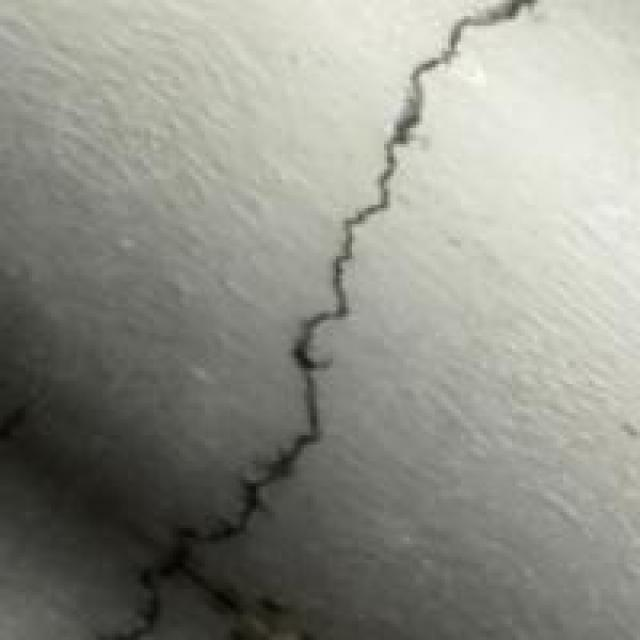Crack: (118, 10, 636, 637)
